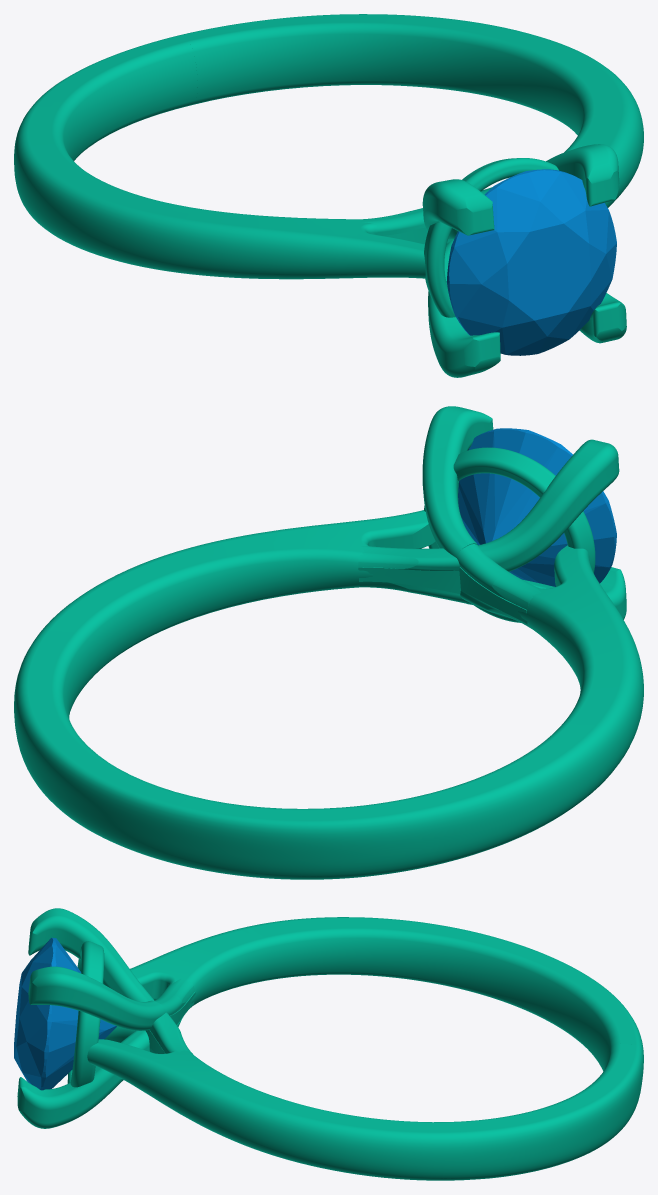
3 renders of one model, top to bottom at view 1: azimuth 30°, elevation 25°; view 2: azimuth 150°, elevation 25°; view 3: azimuth 270°, elevation 25°, orthographic. The views are drawn at different scales.
Visible parts, largest first — view 1: VSR-1008(base).3dm, Diamond_Round; view 2: VSR-1008(base).3dm, Diamond_Round; view 3: VSR-1008(base).3dm, Diamond_Round.
Boxes of the visible parts, x1,y1,x2,y2 form: VSR-1008(base).3dm: [14, 14, 643, 377]; Diamond_Round: [446, 169, 616, 355]; VSR-1008(base).3dm: [14, 406, 643, 879]; Diamond_Round: [458, 428, 616, 586]; VSR-1008(base).3dm: [17, 908, 643, 1180]; Diamond_Round: [14, 937, 116, 1090].
Size of the model in its own units: 2.51 by 0.8131 by 3.
